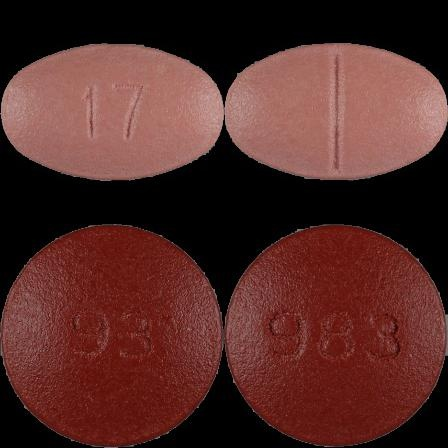68151-1472: (0, 0, 224, 224)
